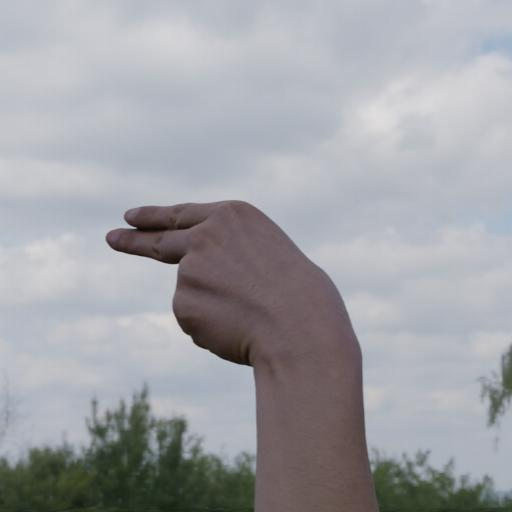H: (90, 168, 378, 420)
